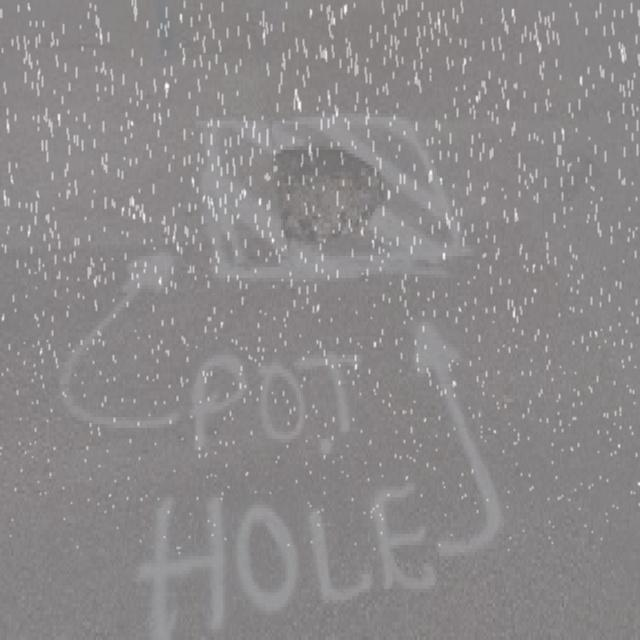Pothole: (267, 136, 396, 260)
